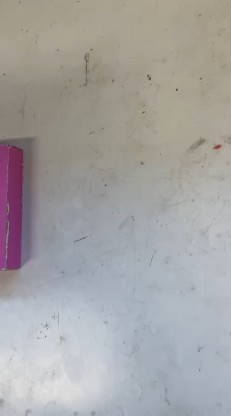pink: (0, 138, 24, 264)
